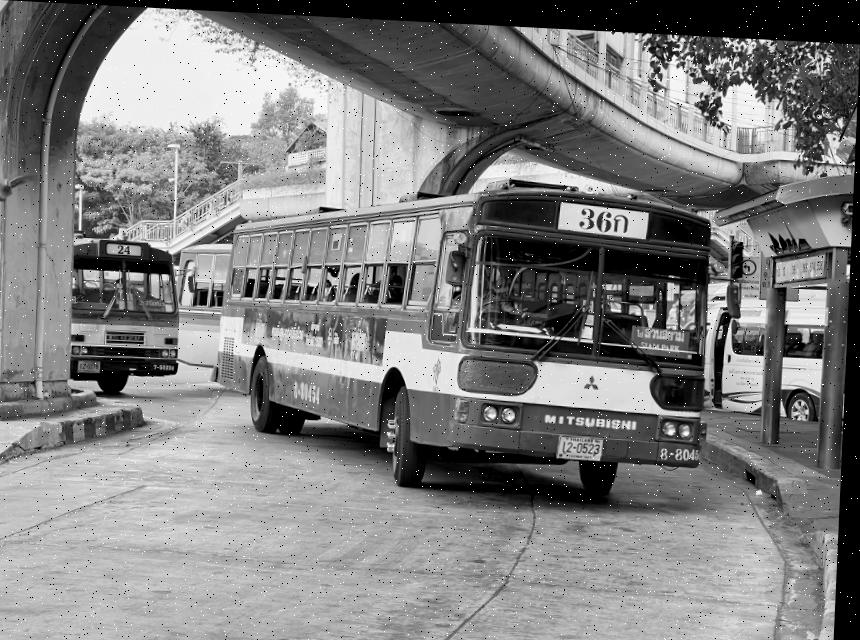BMTA-bus: (218, 168, 714, 491), (72, 232, 184, 396)
Bus Line Number: (558, 193, 651, 234), (115, 242, 137, 255)
Bus Side Number: (662, 437, 709, 457), (153, 360, 179, 370)
Destination Sign: (635, 317, 693, 351), (141, 296, 170, 310)
